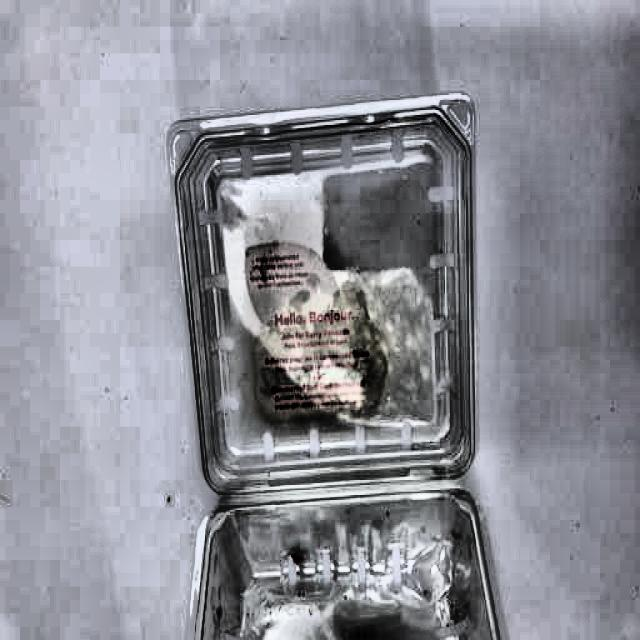plastic: (160, 100, 502, 640)
